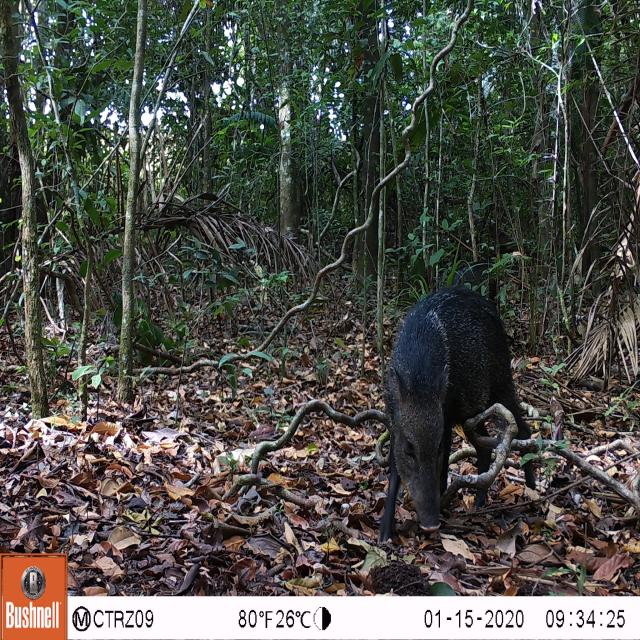White-lipped Peccary: (370, 271, 532, 548)
